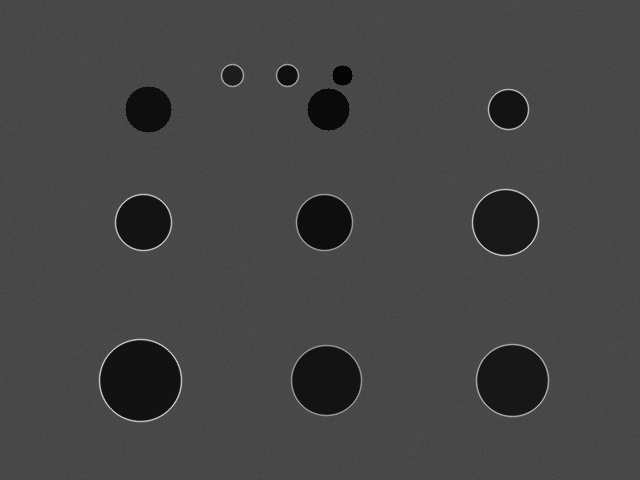hole: (99, 339, 181, 421), (476, 344, 548, 416), (291, 345, 361, 415), (472, 189, 538, 255), (115, 194, 171, 250), (296, 194, 352, 250), (125, 86, 171, 132), (307, 88, 349, 130), (488, 89, 528, 129), (221, 64, 243, 86), (276, 64, 298, 86), (332, 65, 352, 85)
